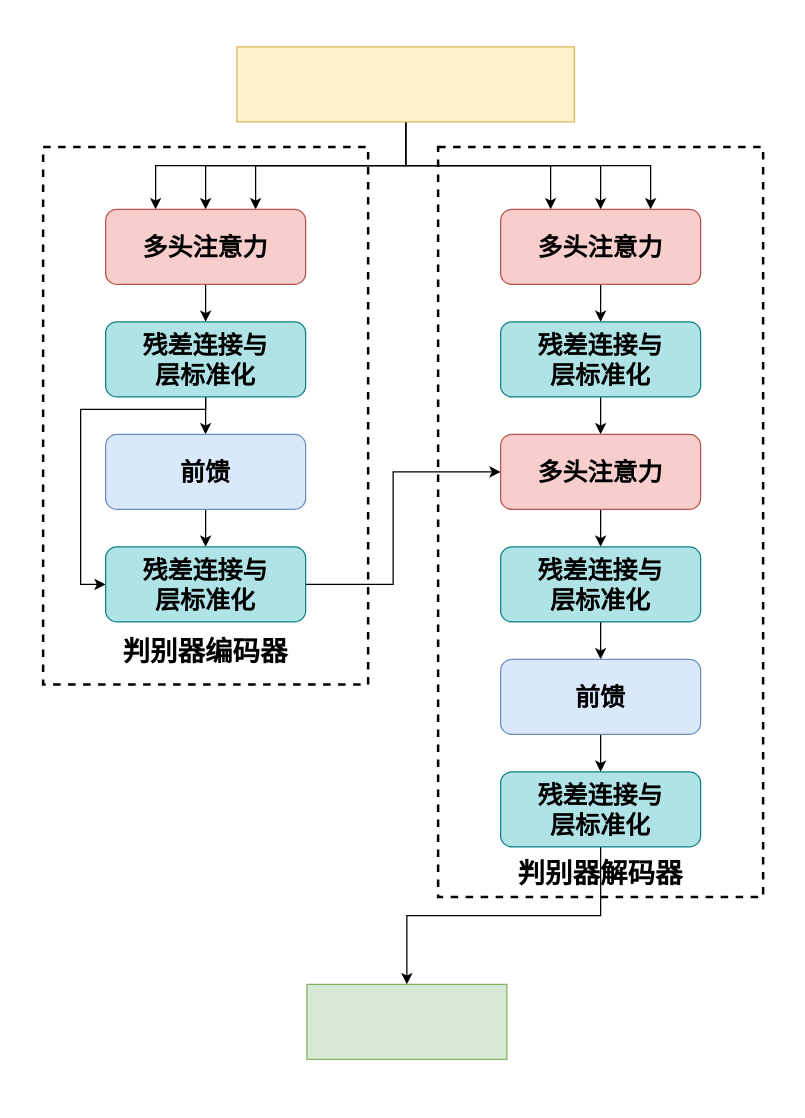
Some shapes in this 805 by 1118 pixel diagram are drawn without their labels. Here are the shapes that lost their labels. From the top down, the box of each, then its label:
(236, 46, 574, 122): X Train & X Generated
(306, 983, 507, 1059): D Loss
